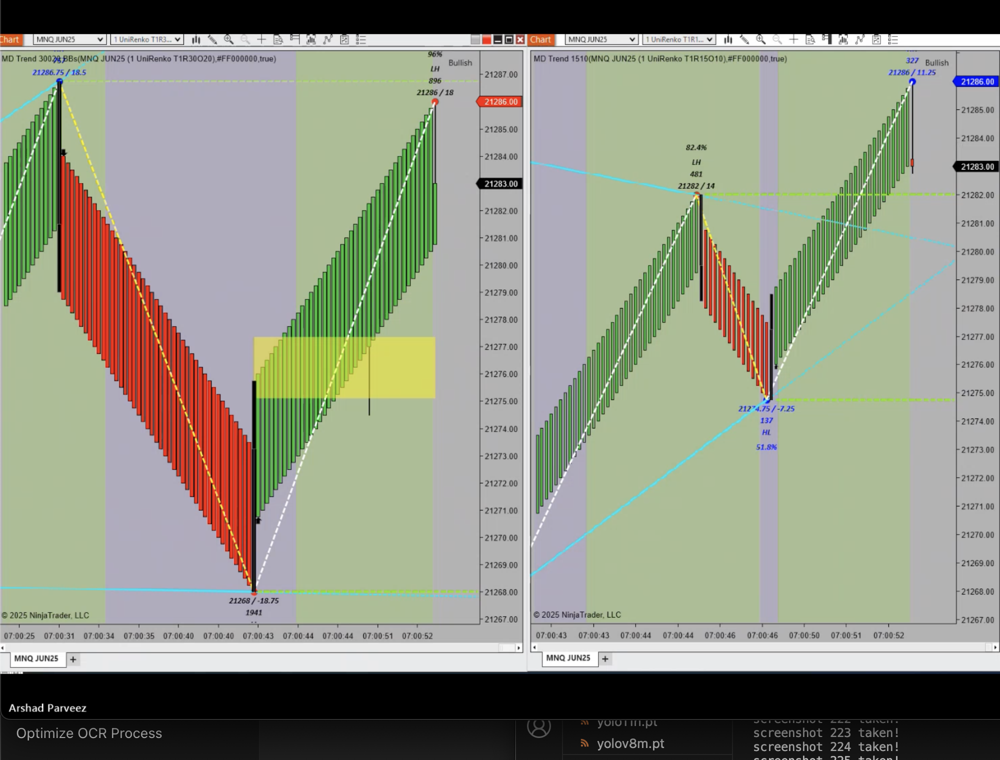HL: (757, 424, 779, 440)
LH: (684, 153, 713, 171), (427, 63, 447, 79)
